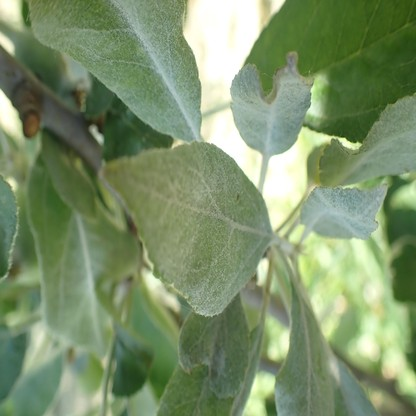powder: (105, 142, 272, 316), (28, 1, 202, 142), (275, 284, 351, 416), (229, 51, 314, 155), (319, 97, 416, 185), (60, 215, 108, 334), (300, 183, 389, 242), (177, 347, 232, 399), (232, 349, 260, 416)
